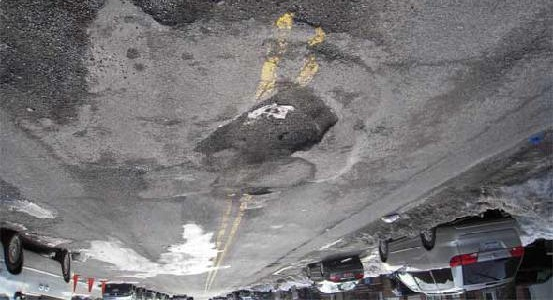pothole: (247, 184, 272, 199)
